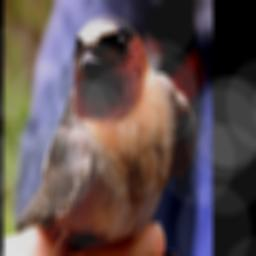Swallow: (16, 15, 195, 256)
